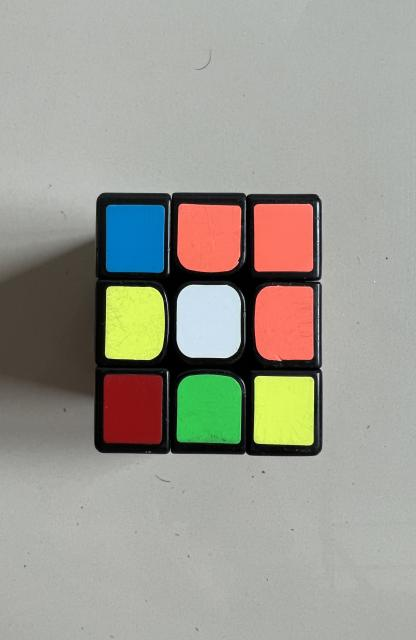Blue: (106, 205, 165, 272)
Green: (177, 375, 242, 444)
Orange: (255, 285, 314, 361), (178, 204, 242, 272), (254, 204, 313, 272)
Red: (103, 375, 162, 444)
White: (177, 285, 242, 359)
Yellow: (105, 286, 165, 360), (254, 376, 314, 445)
